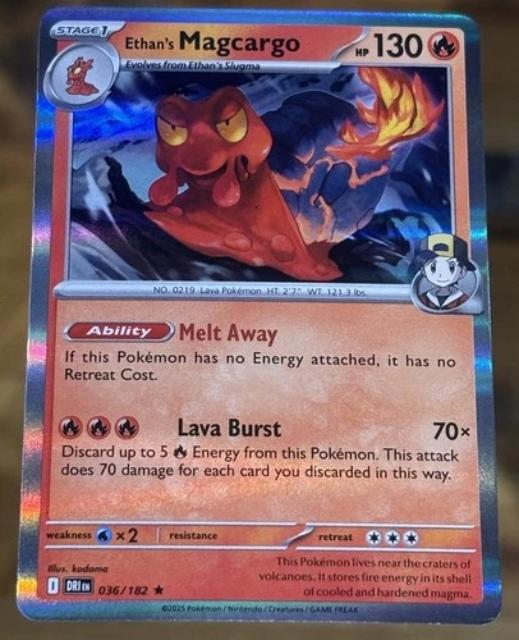Card: (12, 1, 508, 631)
Name: (123, 22, 311, 60)
